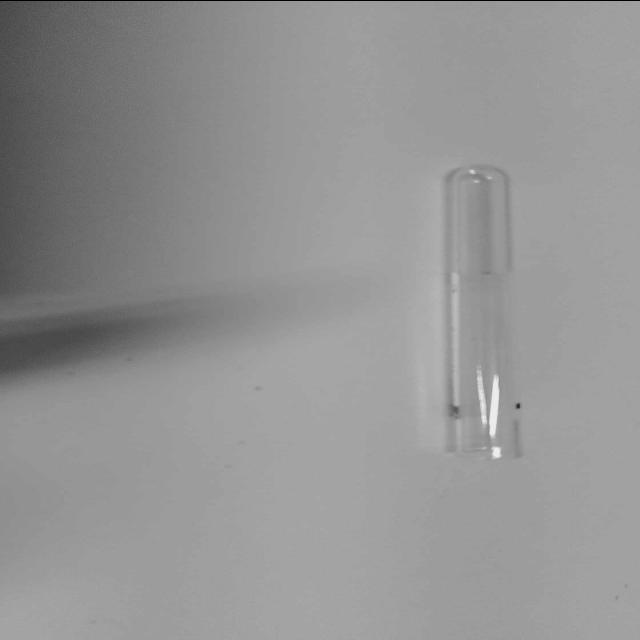Sharps: (441, 162, 525, 460)
